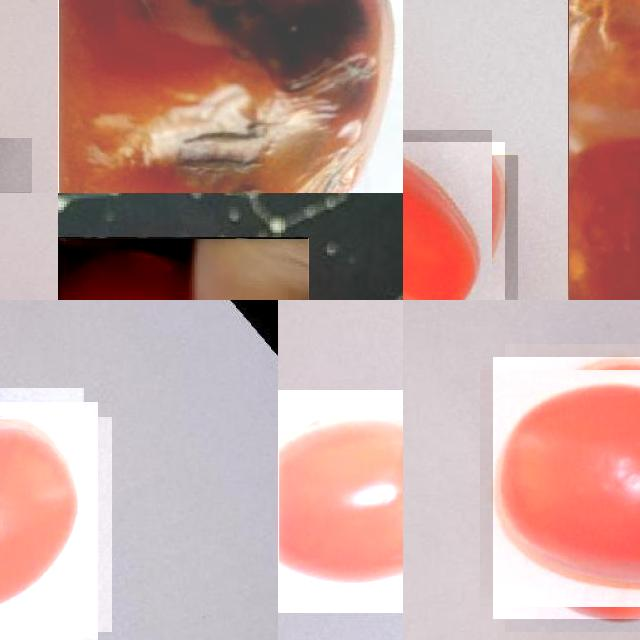Fresh Tomato: (492, 356, 640, 619), (278, 390, 403, 613), (0, 402, 98, 640), (403, 142, 505, 300)
Rotten Tomato: (58, 0, 403, 193), (568, 0, 640, 300)
